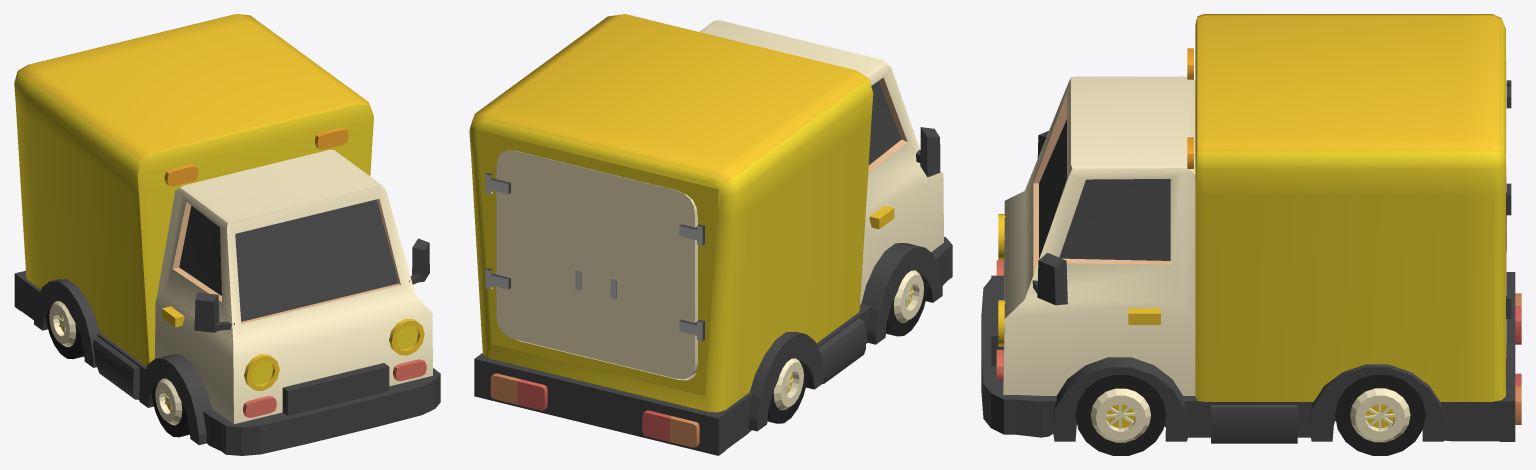
The model's file is Gold_Small_Truck.fbx.
The picture shows the model from 3 angles, left to right: view 1: azimuth 30°, elevation 25°; view 2: azimuth 150°, elevation 25°; view 3: azimuth 270°, elevation 25°; orthographic projection. The views are drawn at different scales.
Parts seen in each view (by area): view 1: Gold_Small_Truck, Gold_Small_Truck_Wheel, Gold_Small_Truck_Wheel2; view 2: Gold_Small_Truck, Small_Right_Door004, Small_Left_Door004, Gold_Small_Truck_Wheel, Gold_Small_Truck_Wheel2; view 3: Gold_Small_Truck, Gold_Small_Truck_Wheel, Gold_Small_Truck_Wheel2.
Part boxes in pixels (bbox=[...]): Gold_Small_Truck: bbox=[14, 14, 440, 455]; Gold_Small_Truck_Wheel: bbox=[151, 378, 189, 437]; Gold_Small_Truck_Wheel2: bbox=[46, 301, 84, 359]; Gold_Small_Truck: bbox=[469, 14, 952, 455]; Small_Right_Door004: bbox=[595, 170, 704, 379]; Small_Left_Door004: bbox=[485, 150, 595, 358]; Gold_Small_Truck_Wheel: bbox=[886, 270, 928, 336]; Gold_Small_Truck_Wheel2: bbox=[767, 358, 808, 423]; Gold_Small_Truck: bbox=[981, 14, 1521, 443]; Gold_Small_Truck_Wheel: bbox=[1075, 375, 1166, 455]; Gold_Small_Truck_Wheel2: bbox=[1335, 375, 1425, 455].
Bounding box in the file's own units: 218 × 220 × 347.
